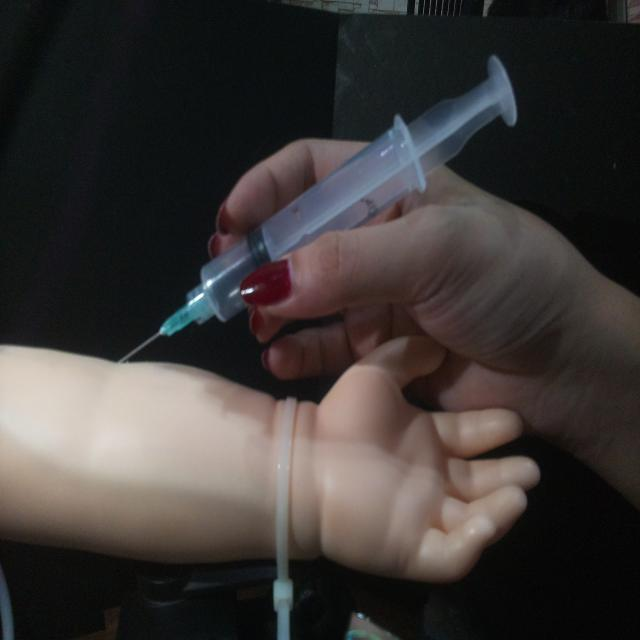30deg: (114, 50, 522, 366)
